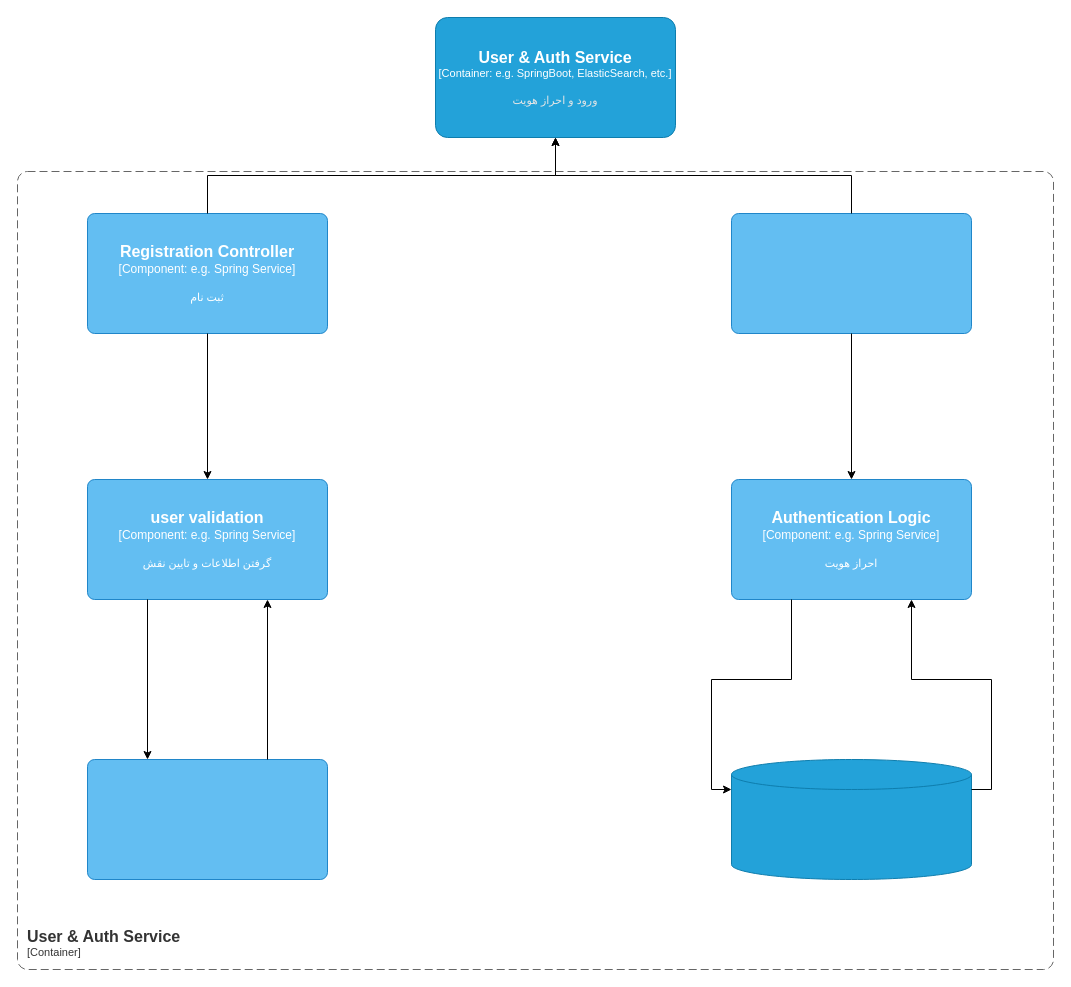
The diagram is 1071 pixels wide and 987 high, and some of its shapes have lost their labels. Each missing label, with the centre of its shape:
Login Controller [Component: e.g. Spring Service] ورود: the point at 851,273
Token Manager JWT [Container: e.g. Oracle Database 12] ارتباط با دیتابیس: the point at 851,819
User Repository [Component: e.g. Spring Service] اعتبار سنجی و ثبت نام: the point at 207,819
